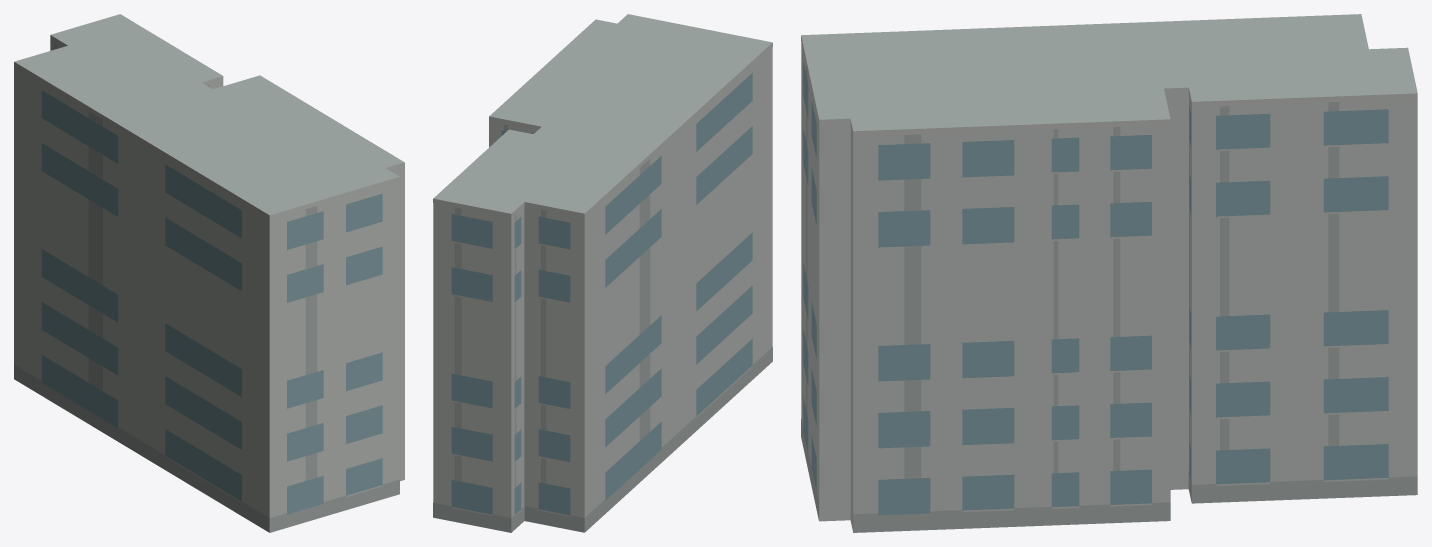
Rendered from survey-upis-33012703.glb.
The picture shows the model from 3 angles, left to right: view 1: azimuth 30°, elevation 25°; view 2: azimuth 150°, elevation 25°; view 3: azimuth 270°, elevation 25°; orthographic projection. The views are drawn at different scales.
Visible parts, largest first — view 1: survey-upis-33012703.tmp; view 2: survey-upis-33012703.tmp; view 3: survey-upis-33012703.tmp.
Part boxes in pixels (left/top/right/bottom): survey-upis-33012703.tmp: left=14, top=14, right=404, bottom=532; survey-upis-33012703.tmp: left=433, top=14, right=772, bottom=532; survey-upis-33012703.tmp: left=801, top=14, right=1417, bottom=532.
Bounding box in the file's own units: 10.62 × 16.95 × 23.6.
